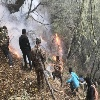fire: (55, 33, 62, 55), (8, 47, 20, 58), (40, 37, 44, 42), (53, 55, 56, 61)
